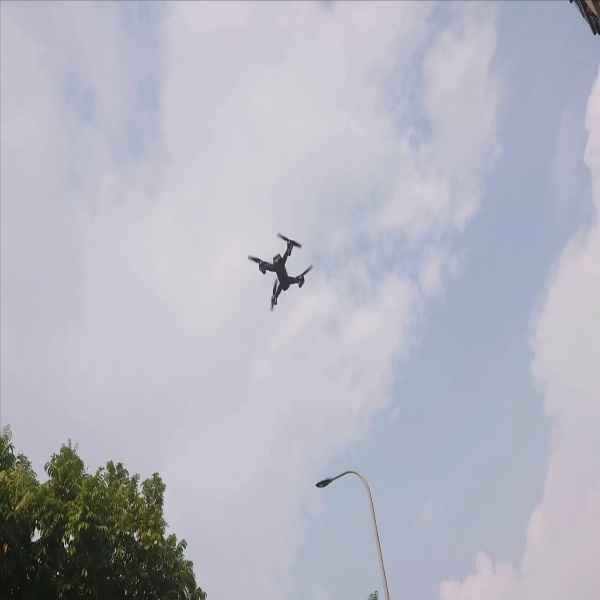drone: (239, 226, 323, 313)
